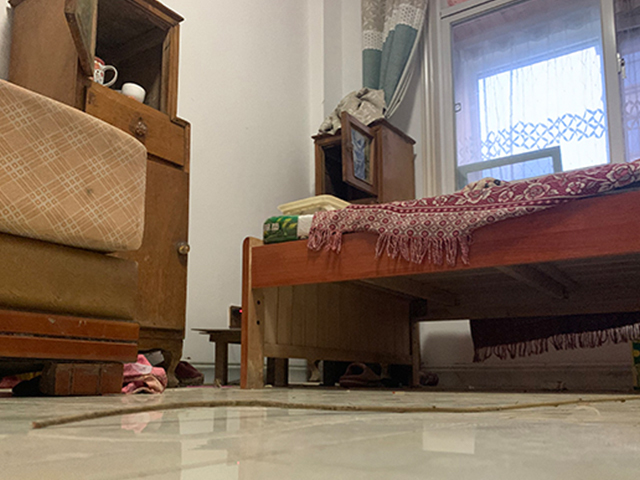bed: (239, 159, 639, 390)
cabinet: (131, 1, 192, 386)
curtain: (332, 1, 429, 128)
slippers: (339, 362, 385, 387)
sofa: (1, 81, 147, 398)
